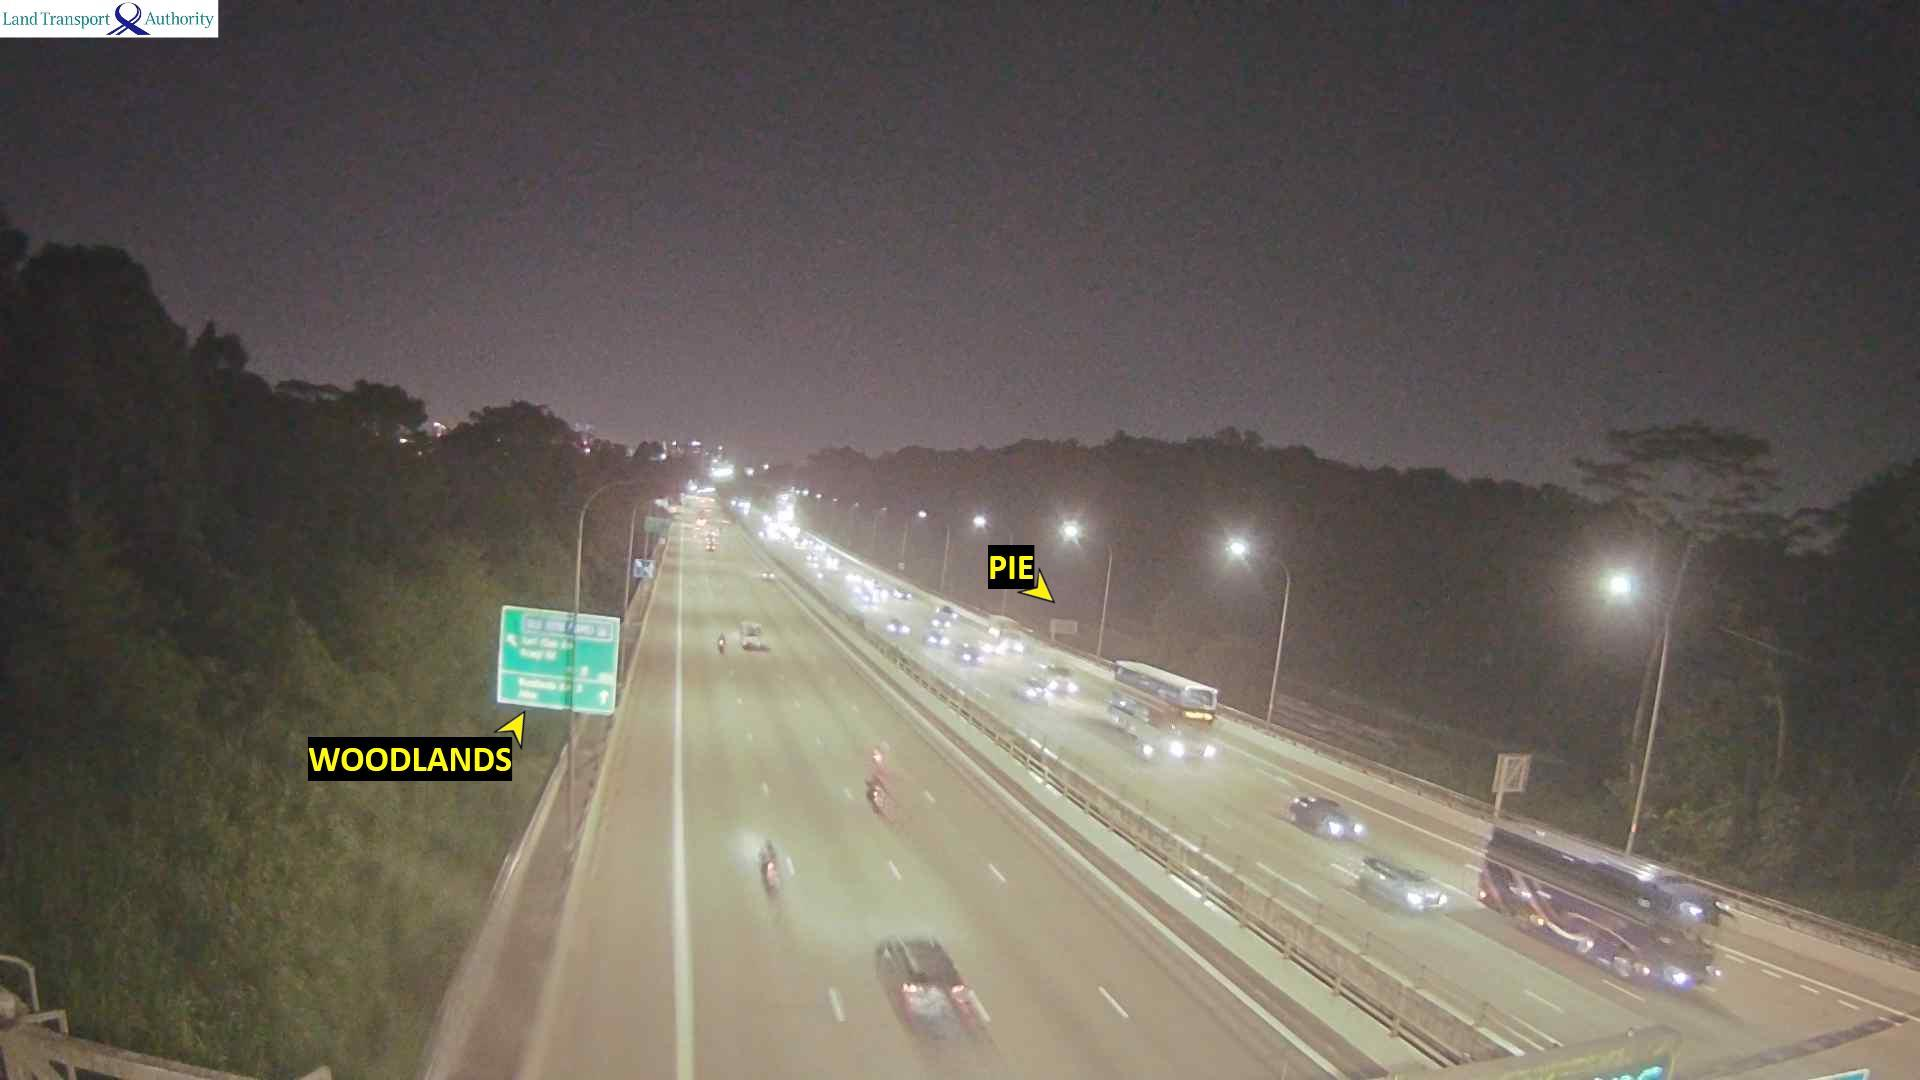bus: (1476, 822, 1731, 992), (1109, 659, 1220, 778)
cars: (873, 932, 992, 1044), (1357, 855, 1447, 913), (1286, 793, 1365, 841), (1015, 679, 1048, 703), (952, 644, 984, 663), (708, 458, 733, 479), (922, 632, 948, 650), (885, 617, 910, 636), (934, 604, 959, 620), (930, 616, 952, 633), (980, 640, 1004, 655), (891, 584, 914, 600), (761, 564, 775, 584), (860, 592, 877, 607), (806, 550, 820, 564), (825, 554, 843, 566), (874, 588, 889, 600), (851, 584, 866, 595), (815, 543, 829, 553), (848, 572, 860, 583), (704, 543, 717, 553), (803, 537, 814, 547), (866, 582, 878, 591), (704, 535, 717, 543), (720, 518, 729, 526), (794, 541, 804, 547), (704, 506, 713, 513), (707, 530, 716, 535)
motorcycle: (862, 773, 890, 815), (757, 839, 782, 881), (1135, 736, 1159, 764), (866, 744, 887, 769), (715, 633, 729, 654), (815, 572, 824, 578)
trucks: (1029, 658, 1079, 696), (988, 615, 1025, 653), (737, 617, 765, 650), (695, 517, 707, 527)
